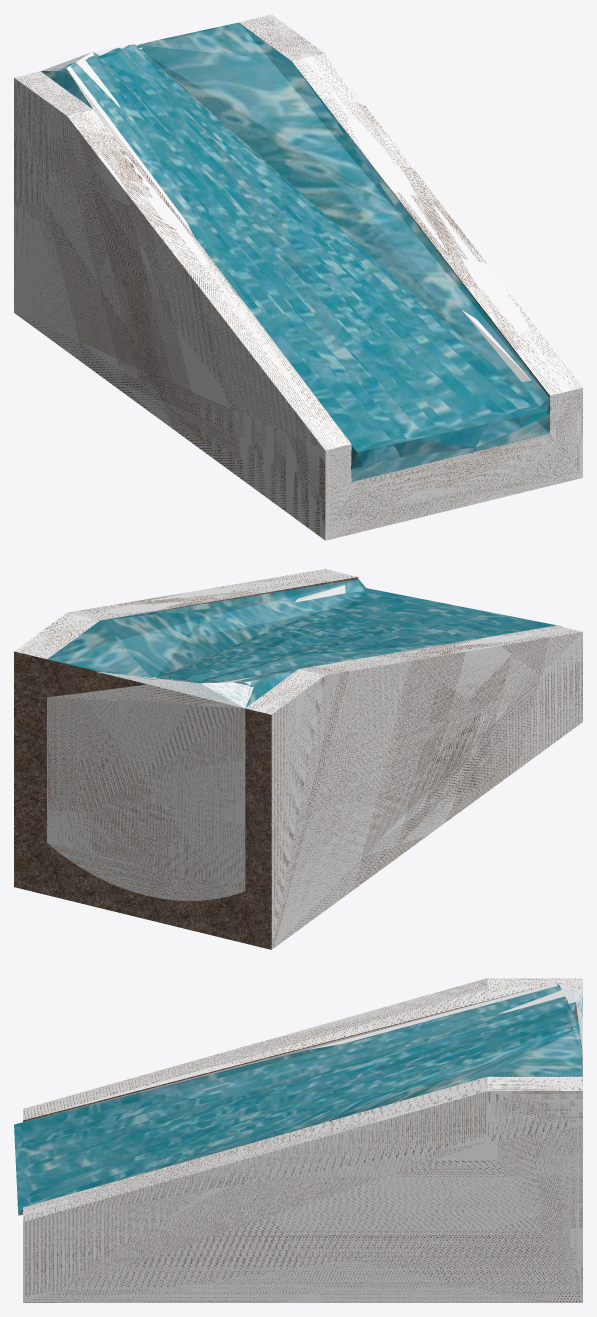
The model's file is Resister_withoutWheel - Copy.dae.
The picture shows the model from 3 angles, top to bottom: view 1: azimuth 30°, elevation 25°; view 2: azimuth 150°, elevation 25°; view 3: azimuth 270°, elevation 25°; orthographic projection. The views are drawn at different scales.
Parts seen in each view (by area): view 1: SketchUp (×5); view 2: SketchUp (×7); view 3: SketchUp (×7).
Boxes of the visible parts, x1,y1,x2,y2 form: SketchUp (×5): [14, 14, 582, 540]; SketchUp (×7): [14, 569, 582, 949]; SketchUp (×7): [14, 978, 582, 1302].
Size of the model in its own units: 65.06 by 138 by 59.83.
